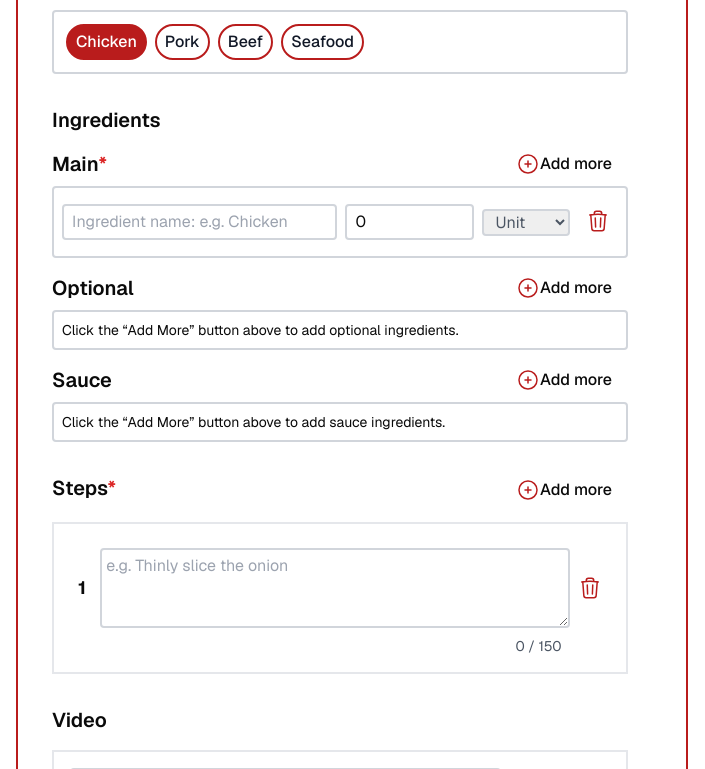
Scenario: RecipeForm › Should display guide message for addition and remove "sauce ingredients" inputs when the "Remove" button is clicked
The image size is (705, 769).
(page scrolled)
Expected: the text "Click the “Add More” button above to add sauce ingredients." is shown, [62,413,445,431]
Click the button with aria-label "add more sauce ingredient input button": (564, 380) [508,366,620,394]
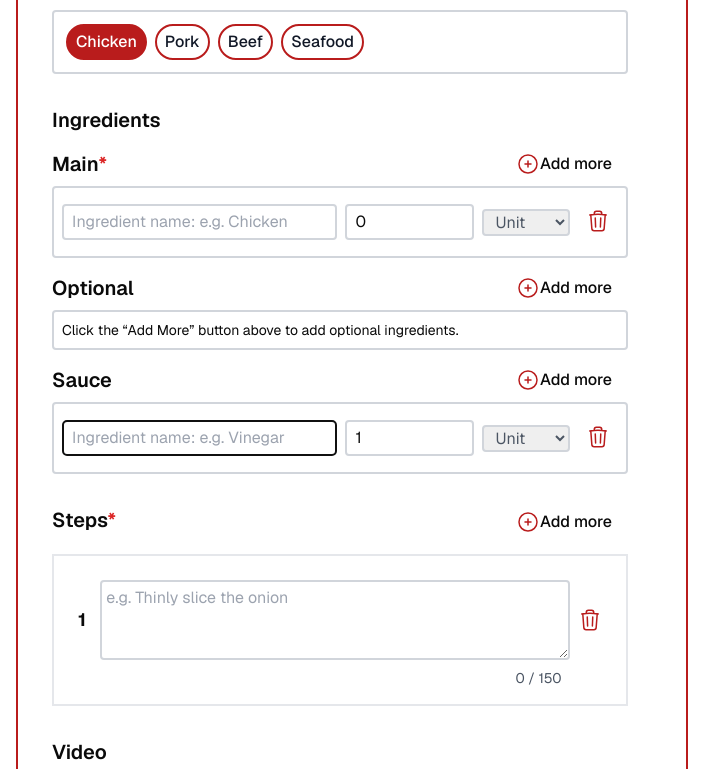
Click the button named "remove sauce ingredients input button": (598, 436) [578,420,618,452]
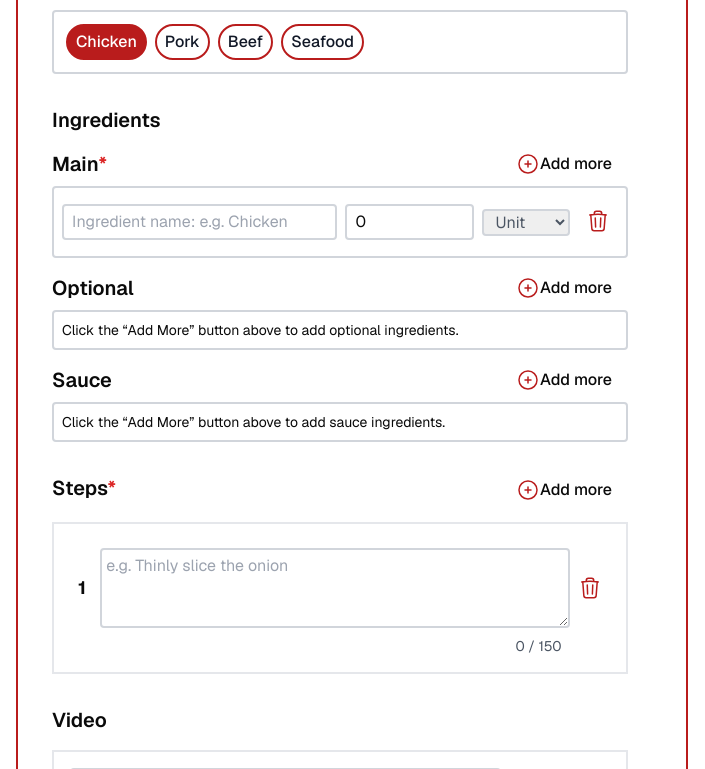
Expected: the text "Click the “Add More” button above to add sauce ingredients." is shown, [62,413,445,431]
